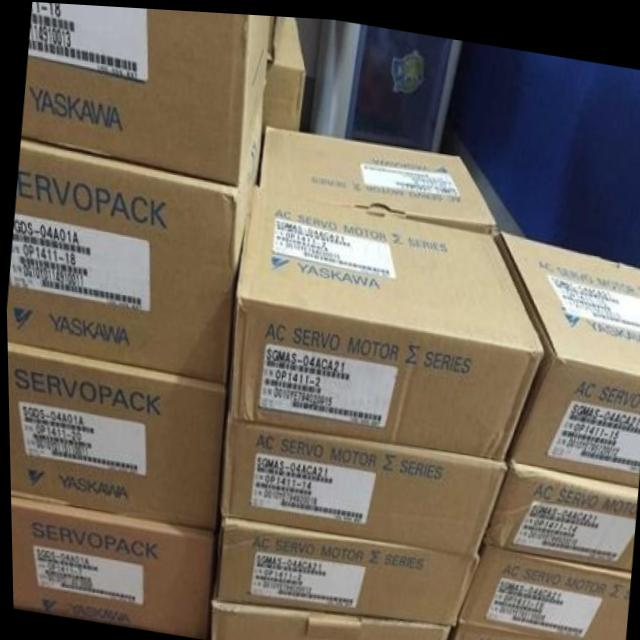box: (224, 182, 542, 453), (5, 137, 251, 382), (20, 1, 271, 184), (6, 341, 222, 529), (217, 415, 506, 553), (491, 227, 640, 479), (9, 495, 212, 637), (212, 513, 477, 620), (259, 123, 498, 228), (453, 540, 629, 640), (482, 454, 636, 563), (207, 595, 448, 640), (262, 13, 304, 124), (448, 621, 603, 640)
